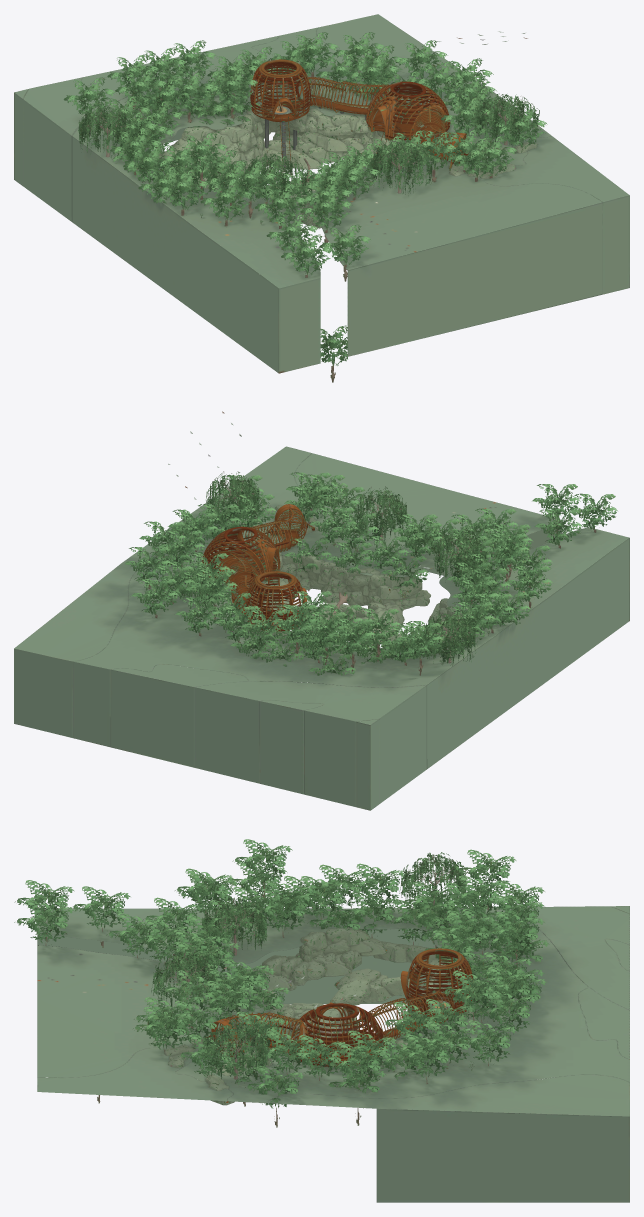
The model's file is Tranquil-River-light.glb.
3 renders of one model, top to bottom at view 1: azimuth 30°, elevation 25°; view 2: azimuth 150°, elevation 25°; view 3: azimuth 270°, elevation 25°, orthographic. The views are drawn at different scales.
Visible parts, largest first — view 1: bakegroup_zone-7, bakegroup_zone-8, bakegroup_zone-3, bakegroup_zone-5, bakegroup_zone-4, bakegroup_zone-2, bakegroup_zone-6; view 2: bakegroup_zone-7, bakegroup_zone-8, bakegroup_zone-3, bakegroup_zone-5, bakegroup_zone-4, bakegroup_zone-2, bakegroup_zone-1; view 3: bakegroup_zone-7, bakegroup_zone-8, bakegroup_zone-3, bakegroup_zone-5, bakegroup_zone-4, bakegroup_zone-2.
Part boxes in pixels (x1=…): bakegroup_zone-7: x1=14, y1=14, x2=629, y2=373; bakegroup_zone-8: x1=63, y1=32, x2=547, y2=382; bakegroup_zone-3: x1=366, y1=81, x2=451, y2=158; bakegroup_zone-5: x1=250, y1=59, x2=310, y2=121; bakegroup_zone-4: x1=295, y1=77, x2=448, y2=160; bakegroup_zone-2: x1=413, y1=106, x2=454, y2=161; bakegroup_zone-6: x1=265, y1=106, x2=408, y2=175; bakegroup_zone-7: x1=14, y1=446, x2=629, y2=810; bakegroup_zone-8: x1=124, y1=471, x2=617, y2=675; bakegroup_zone-3: x1=201, y1=526, x2=298, y2=584; bakegroup_zone-5: x1=246, y1=571, x2=307, y2=631; bakegroup_zone-4: x1=209, y1=532, x2=299, y2=615; bakegroup_zone-2: x1=242, y1=508, x2=306, y2=552; bakegroup_zone-1: x1=267, y1=504, x2=314, y2=534; bakegroup_zone-7: x1=37, y1=906, x2=629, y2=1202; bakegroup_zone-8: x1=14, y1=839, x2=549, y2=1127; bakegroup_zone-3: x1=231, y1=1002, x2=386, y2=1066; bakegroup_zone-5: x1=400, y1=948, x2=473, y2=1014; bakegroup_zone-4: x1=233, y1=989, x2=455, y2=1064; bakegroup_zone-2: x1=217, y1=1012, x2=302, y2=1053.
Size of the model in its own units: 36.42 by 22.03 by 45.24.
1 material, 1 textured.
